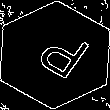P_SW: (22, 24, 88, 86)
